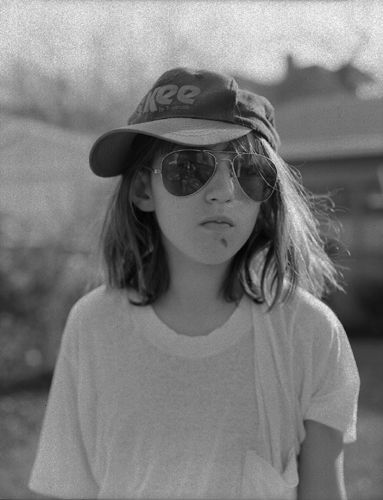without_mask: (129, 123, 274, 270)
